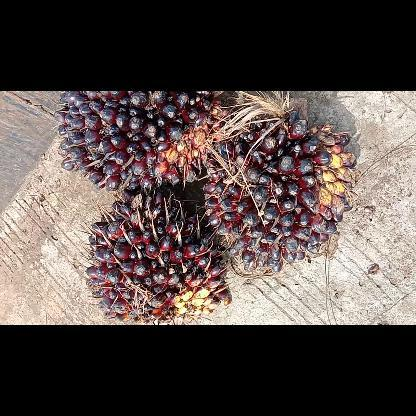TBS mentah: (202, 98, 361, 276), (81, 190, 235, 324), (51, 91, 244, 195)
